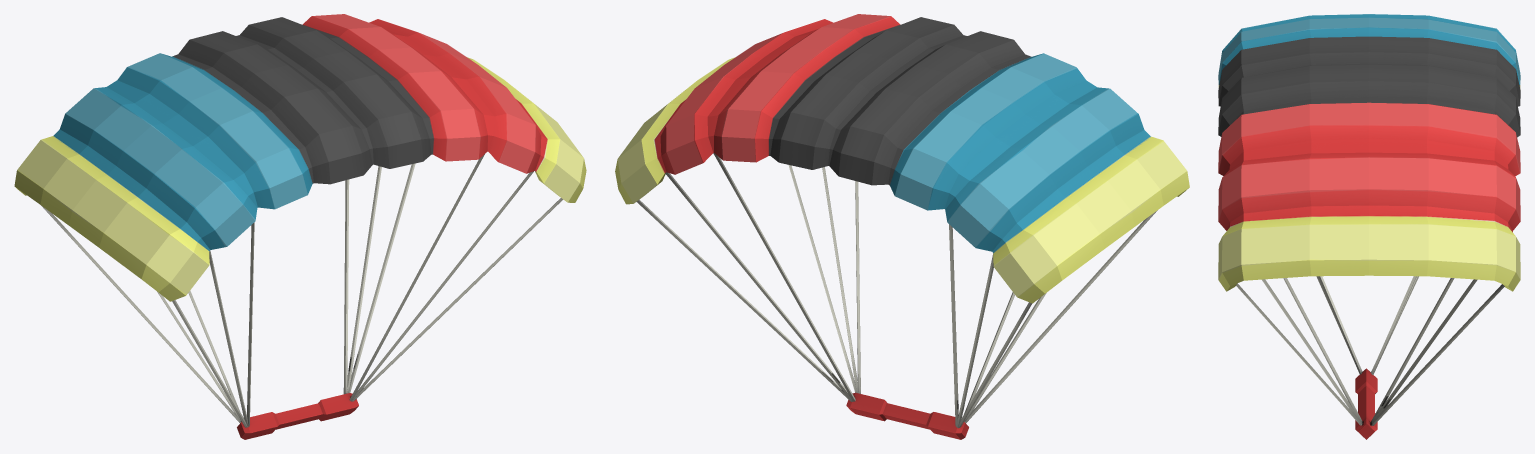
Rendered from parachute_alt.glb.
3 renders of one model, left to right at view 1: azimuth 30°, elevation 25°; view 2: azimuth 150°, elevation 25°; view 3: azimuth 270°, elevation 25°, orthographic.
Parts seen in each view (by area): view 1: Object_2; view 2: Object_2; view 3: Object_2.
Part boxes in pixels (box(x1,y1,x2,y2)): Object_2: box(14, 14, 586, 439); Object_2: box(615, 14, 1189, 439); Object_2: box(1218, 14, 1520, 439).
Bounding box in the file's own units: 9.11 × 6.83 × 5.22.
1 material, 1 textured.
